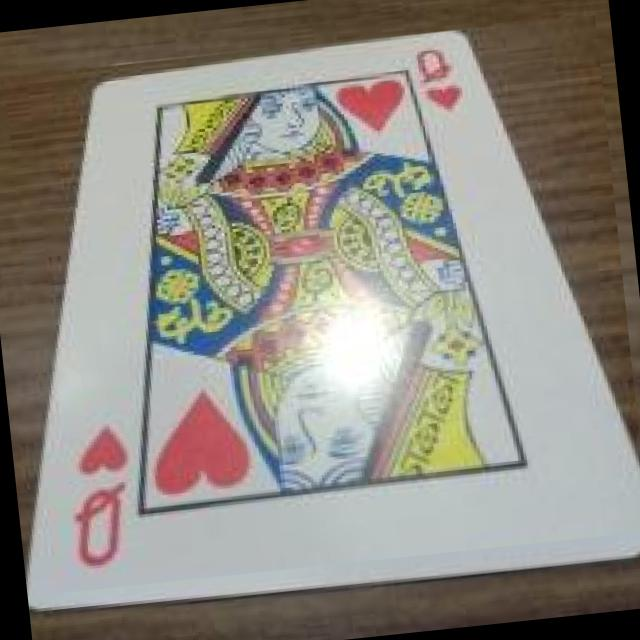Queen of hearts: (28, 30, 640, 596)
